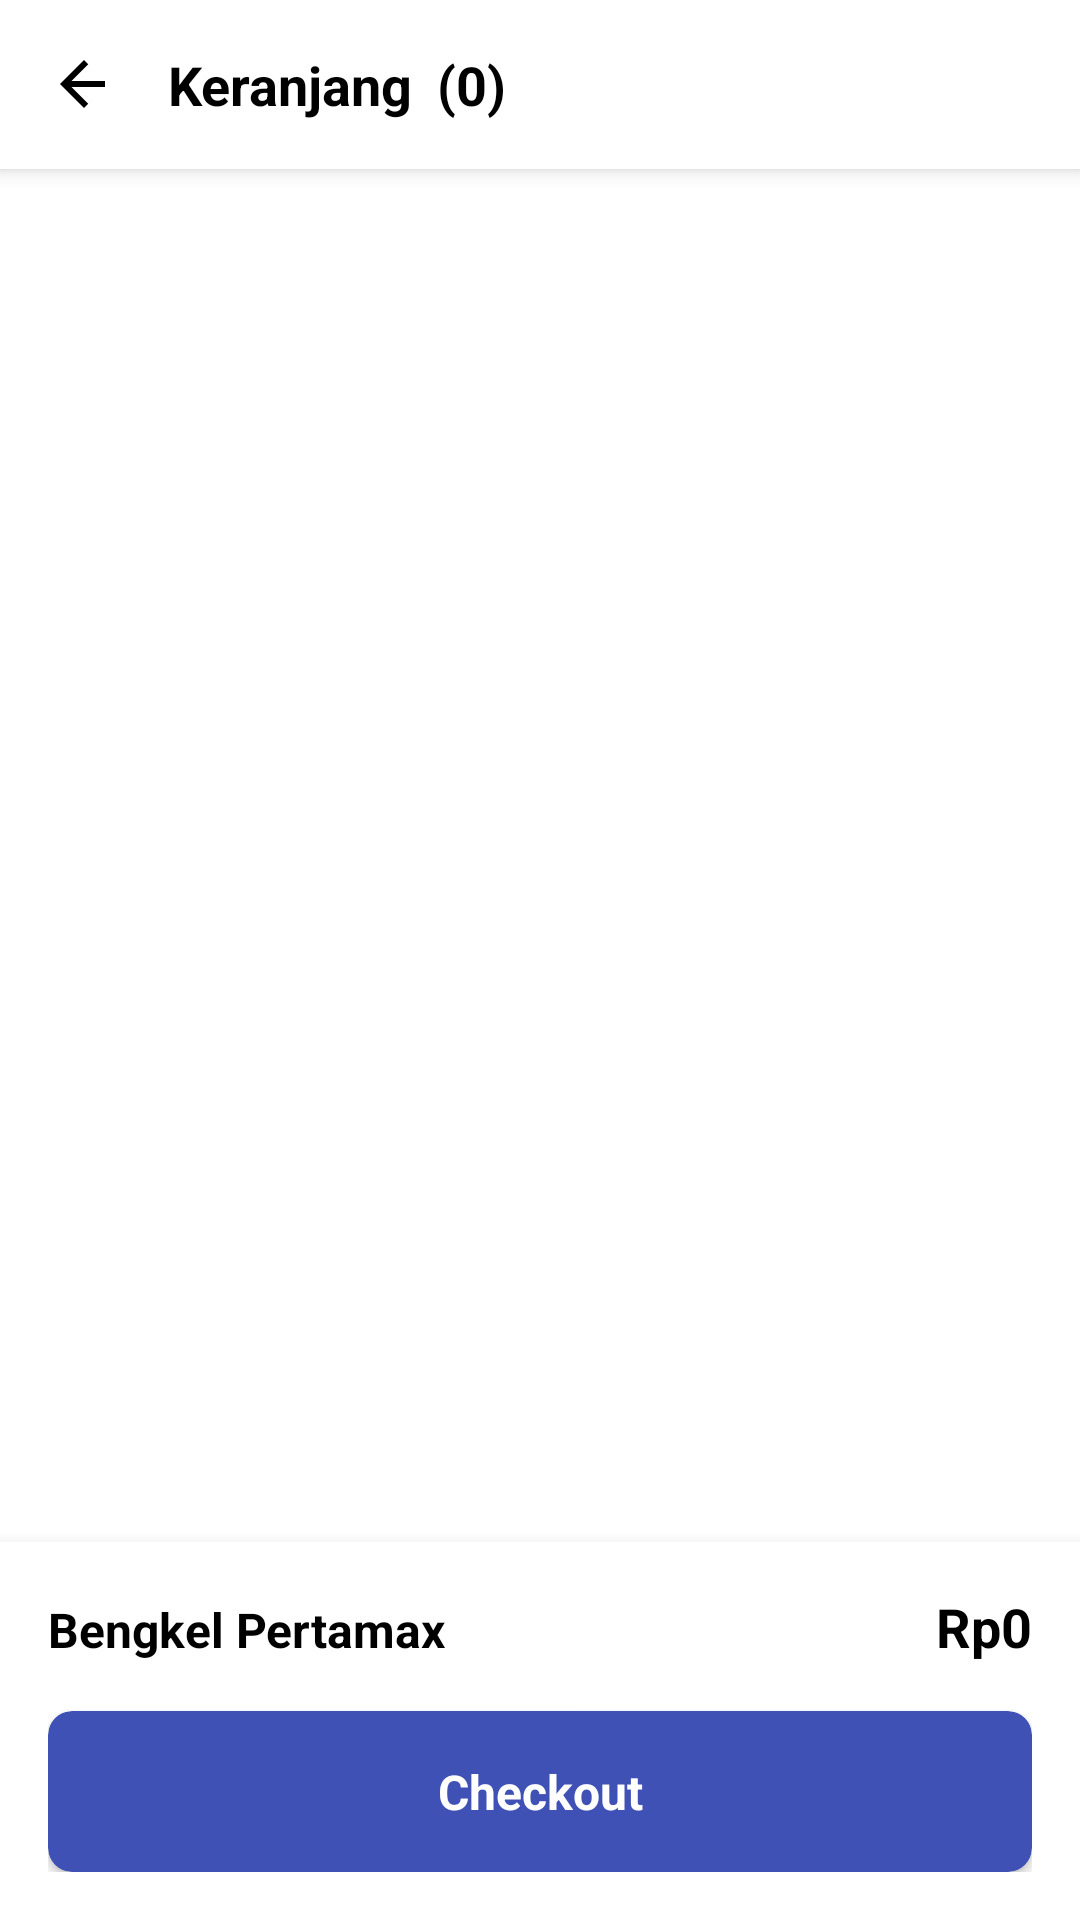

Icons on this 1080×1920 Android screen, each with its box as (x1, y1, x2, y2):
arrow back: (60, 60, 105, 108)
